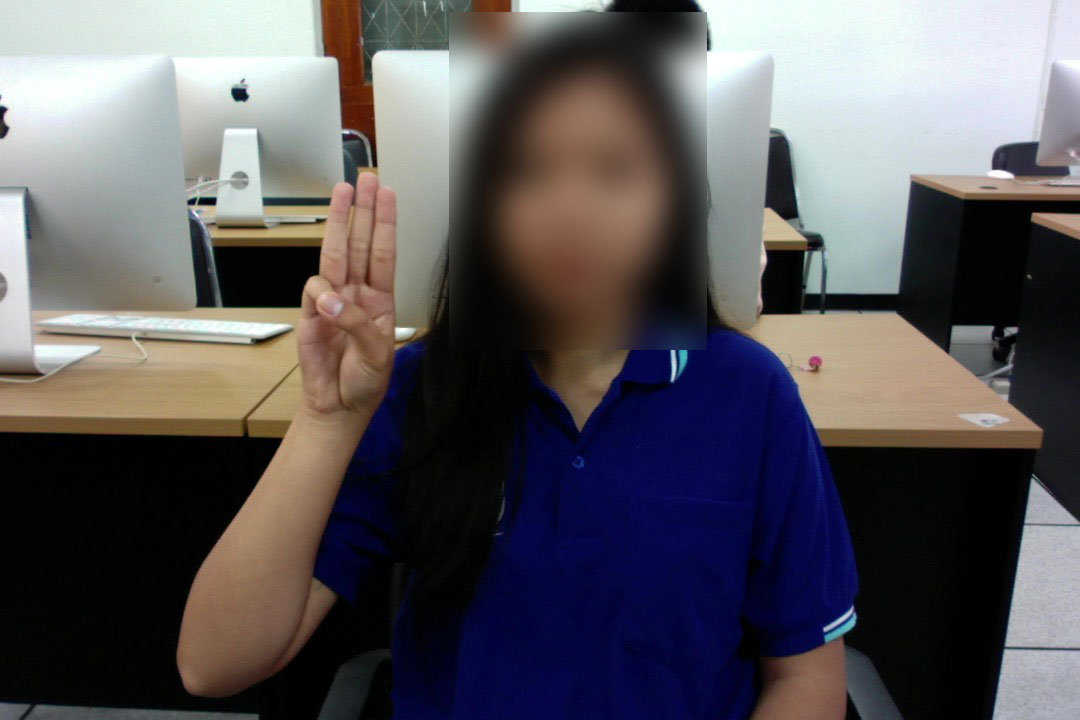wor: (280, 163, 417, 417)
